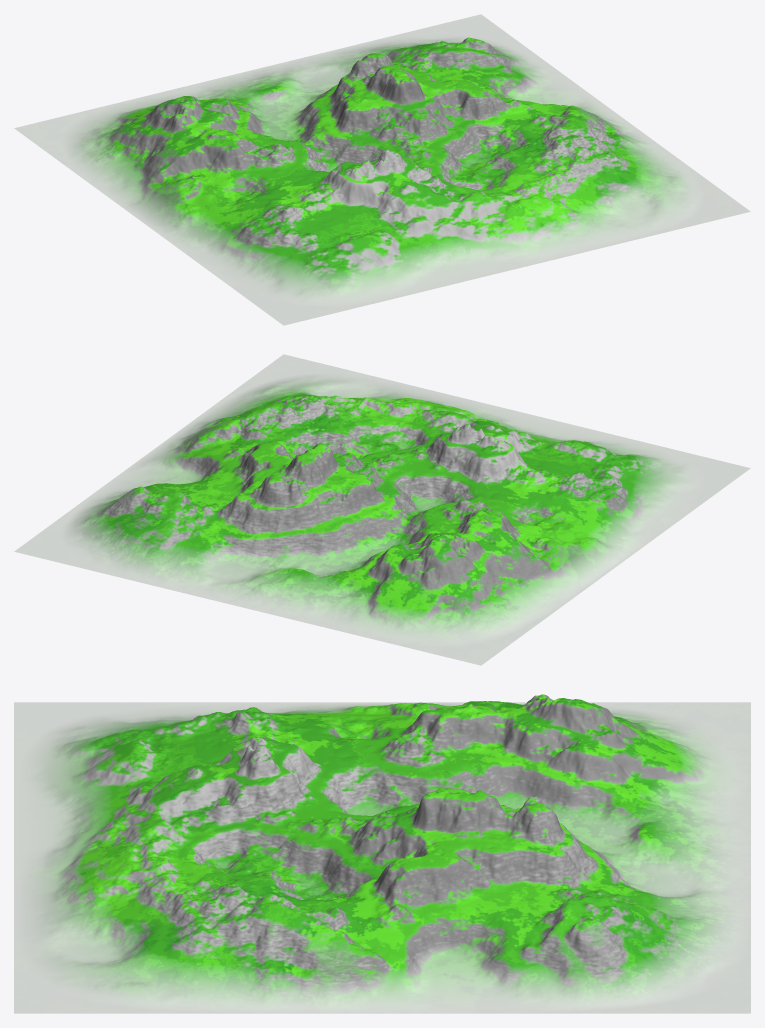
Rendered from Landscape_B.glb.
3 views of the same model, one above another, from view 1: azimuth 30°, elevation 25°; view 2: azimuth 150°, elevation 25°; view 3: azimuth 270°, elevation 25° (orthographic). The views are drawn at different scales.
Visible parts, largest first — view 1: Landscape.002; view 2: Landscape.002; view 3: Landscape.002.
Boxes of the visible parts, x1,y1,x2,y2 form: Landscape.002: (14, 14, 750, 325); Landscape.002: (14, 354, 750, 665); Landscape.002: (14, 694, 750, 1013).
Bounding box in the file's own units: 500 × 68.93 × 500.
1 material, 1 textured.
